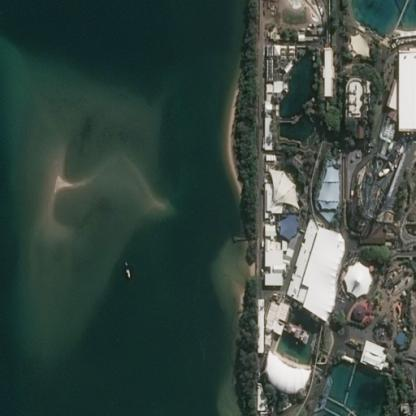ship: (124, 267, 130, 278)
